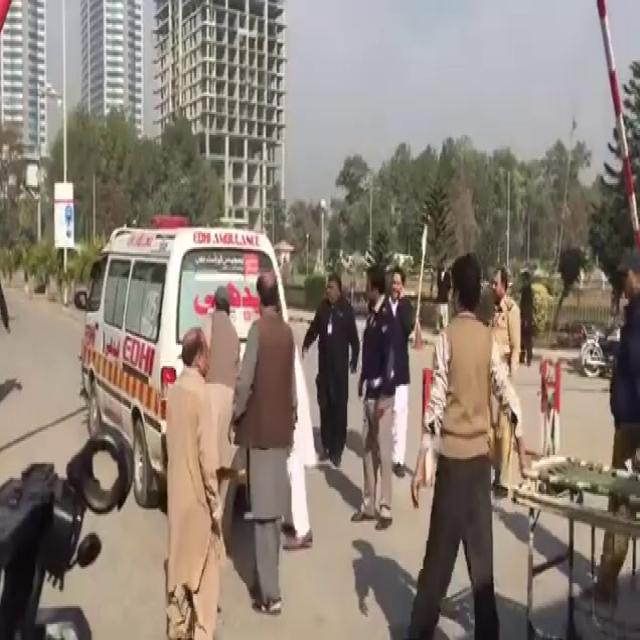ambulance: (64, 205, 306, 493)
